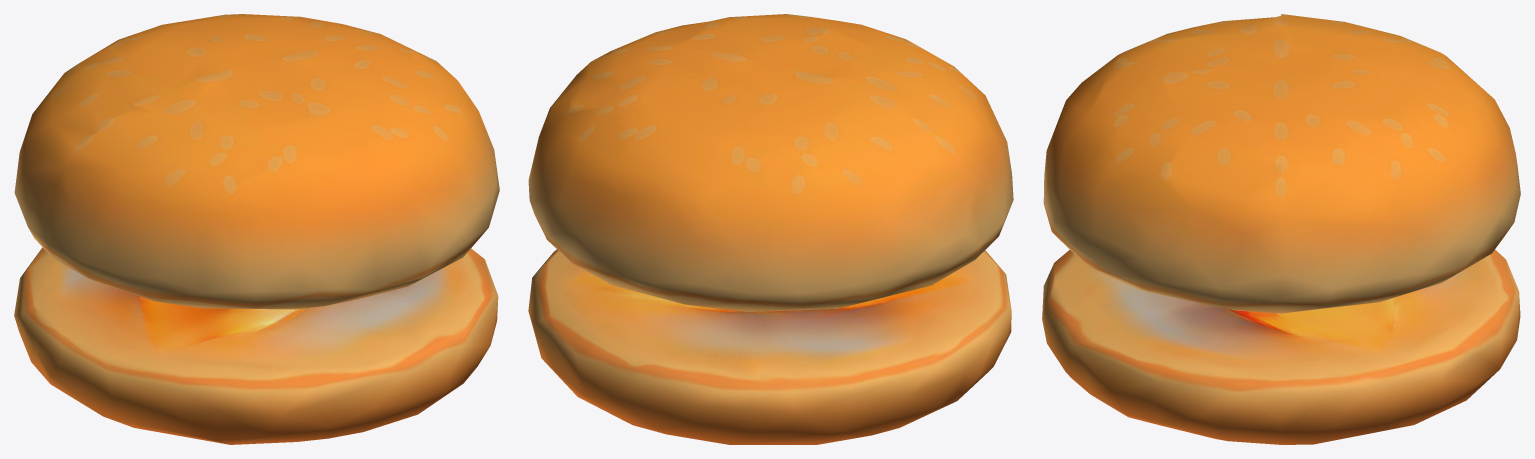
The model's file is Bread.fbx.
3 views of the same model, side by side, from view 1: azimuth 30°, elevation 25°; view 2: azimuth 150°, elevation 25°; view 3: azimuth 270°, elevation 25° (orthographic).
Parts seen in each view (by area): view 1: tripo_node_72f6d457; view 2: tripo_node_72f6d457; view 3: tripo_node_72f6d457.
Part boxes in pixels (x1,y1,x2,y2): tripo_node_72f6d457: [14, 14, 499, 444]; tripo_node_72f6d457: [528, 14, 1013, 444]; tripo_node_72f6d457: [1042, 14, 1520, 444].
Size of the model in its own units: 0.9988 by 0.7135 by 0.999.
1 material, 1 textured.
